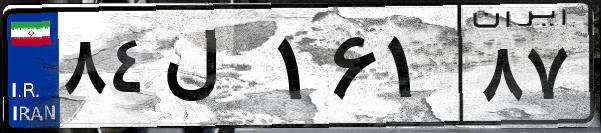1: (270, 28, 330, 110), (385, 28, 445, 110)
4: (110, 28, 158, 98)
6: (330, 28, 385, 110)
7: (525, 38, 570, 115)
8: (57, 26, 110, 100), (475, 38, 525, 113)
ل: (158, 20, 270, 120)
